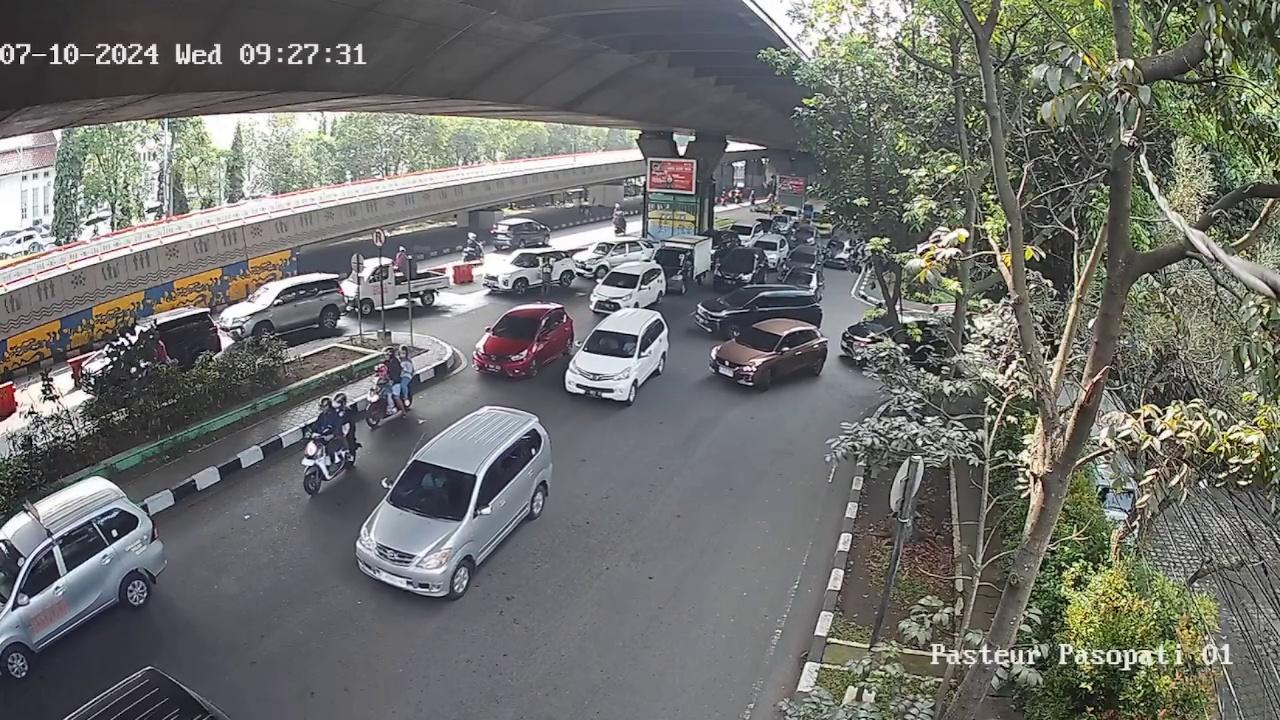pakai: (419, 463, 462, 503), (622, 340, 635, 355)
tidak-pakai: (599, 338, 618, 350)
windshield: (385, 457, 478, 527), (489, 313, 546, 342), (737, 325, 787, 353), (590, 333, 638, 356), (600, 267, 643, 290)
